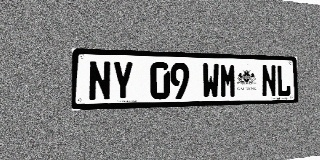0: (150, 62, 170, 100)
9: (170, 62, 189, 99)
L: (277, 65, 291, 97)
M: (220, 64, 236, 98)
N: (88, 60, 111, 101), (261, 65, 276, 97)
W: (202, 63, 219, 98)
Y: (112, 61, 134, 101)
